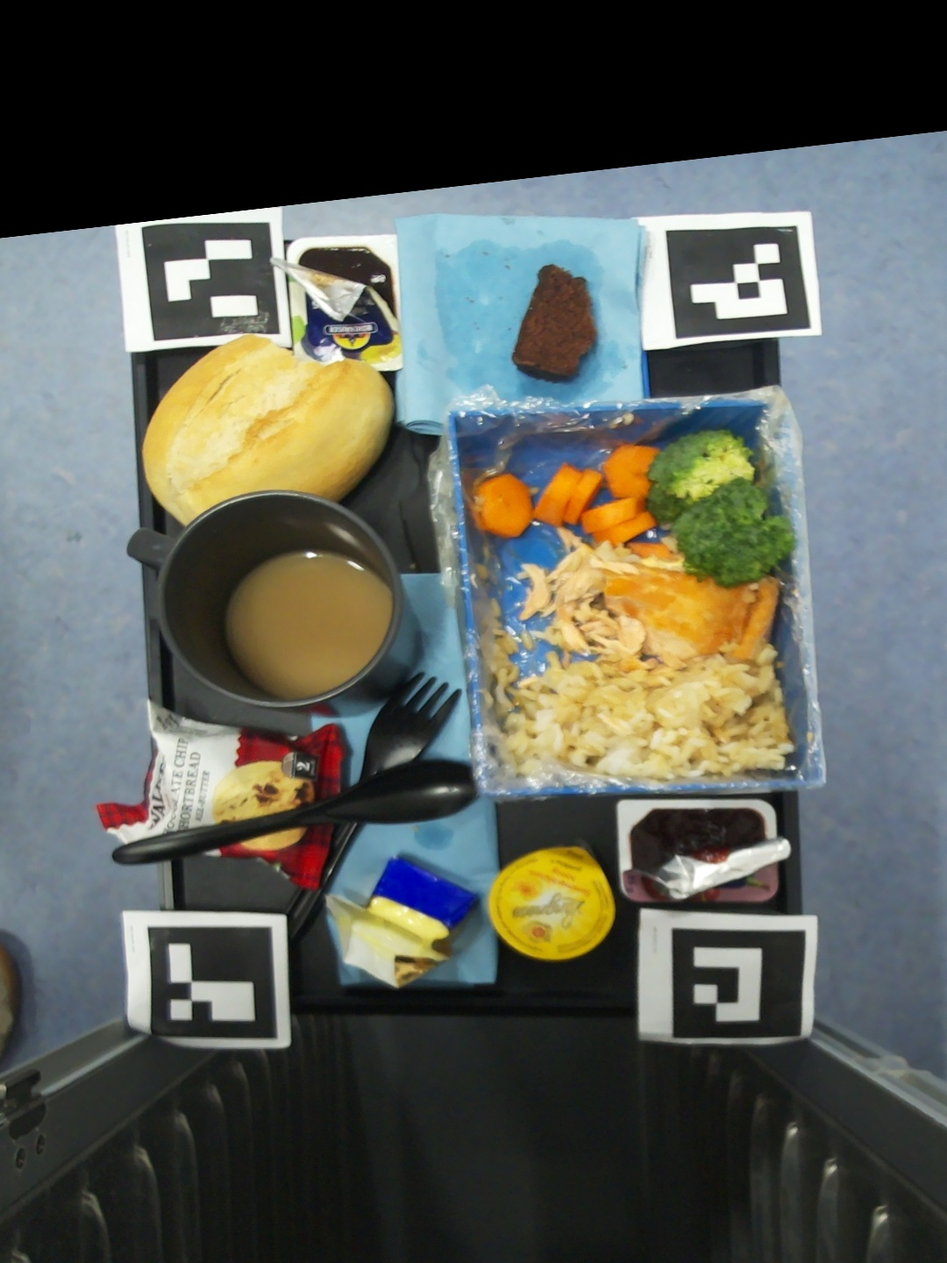bread_roll: (143, 333, 396, 525)
broccoli: (645, 430, 797, 588)
brownie: (511, 264, 594, 382)
butter: (326, 855, 483, 990)
carrots: (475, 444, 660, 547)
cherry_jam: (617, 799, 791, 901)
coffee_cup: (126, 491, 420, 716)
cookie: (95, 699, 346, 891)
fish_salmon: (520, 527, 780, 663)
honey: (490, 838, 617, 960)
plum_jam: (269, 235, 403, 371)
rice: (490, 591, 795, 779), (659, 522, 680, 553), (491, 598, 501, 618), (478, 563, 487, 580), (473, 496, 484, 505), (748, 582, 758, 591)
